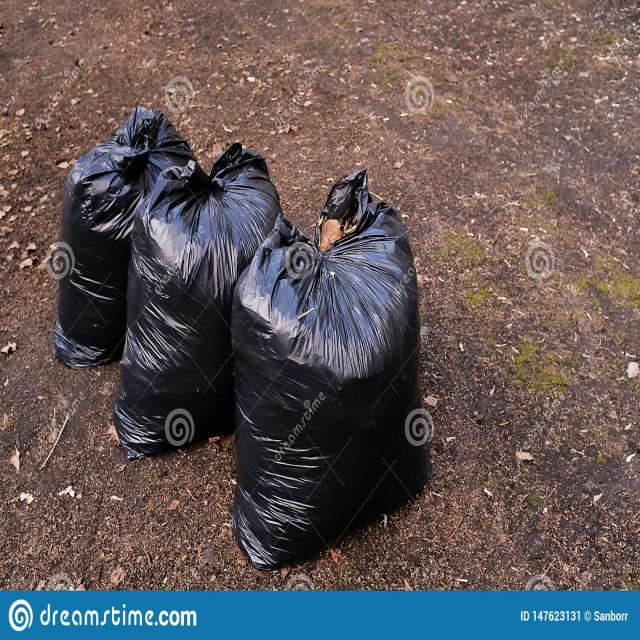plastic_bag: (235, 199, 417, 559), (134, 145, 278, 458), (59, 108, 179, 371)
